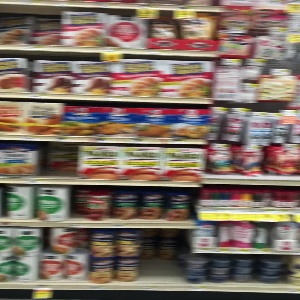void: (140, 228, 183, 285), (37, 139, 77, 180)
